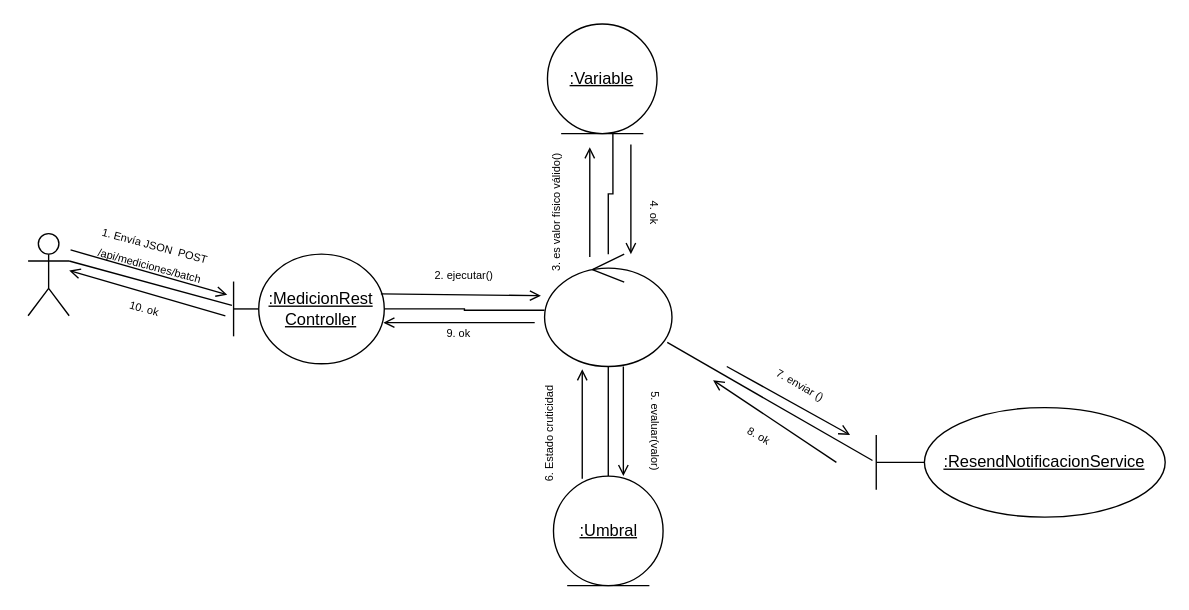
Image size: 1189x610. Some labels were removed from this diagram. The centre of each missing label's shape, as x and y in pixels:
":RegistrarMedicion UseCase" goes at point 607,309.
"ESP32" goes at point 48,274.
